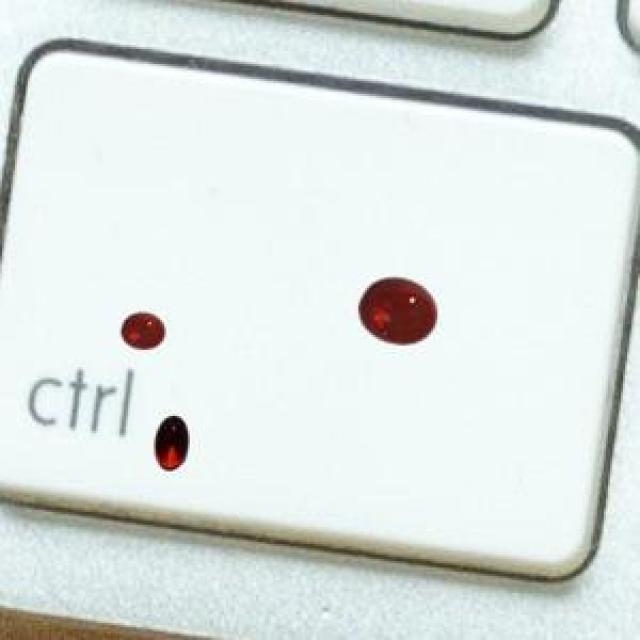Medicol: (348, 265, 443, 355), (140, 398, 202, 484), (115, 304, 167, 354)
